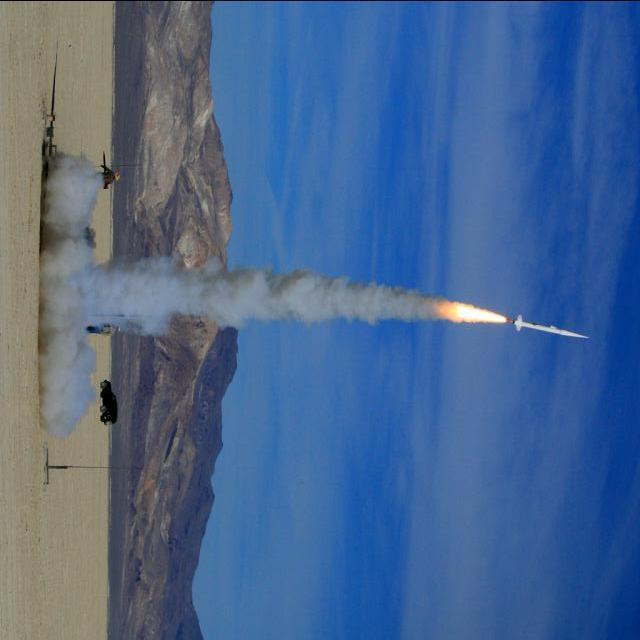missile: (500, 306, 593, 383)
